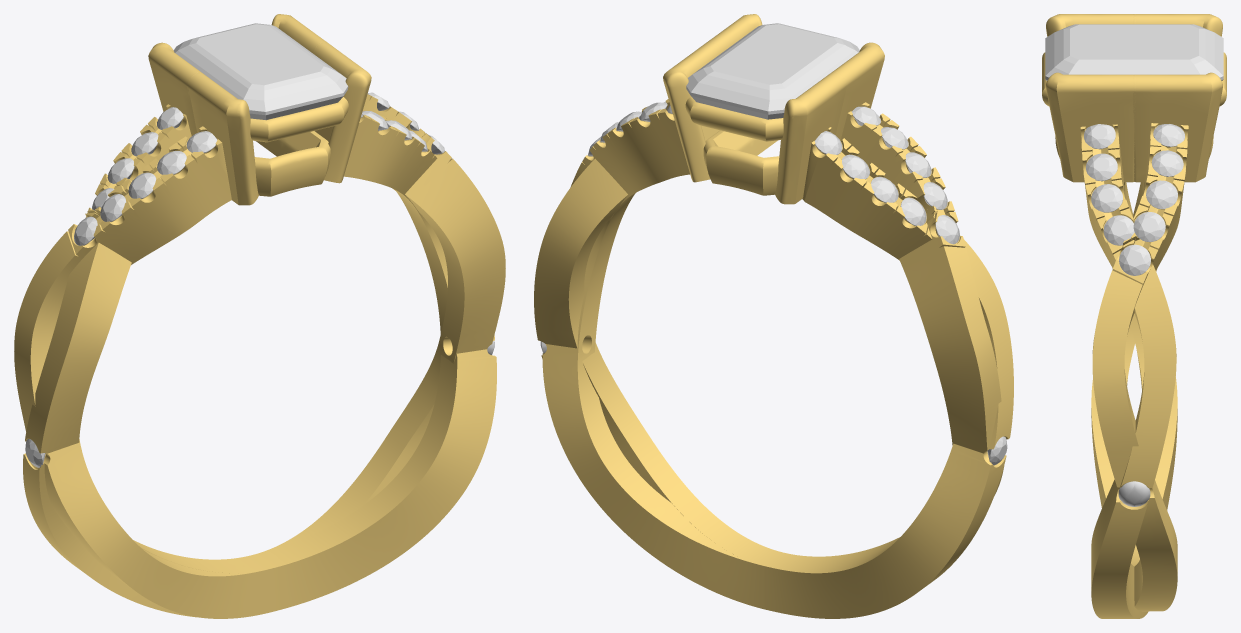
The model's file is diamond-emerald-yellowgold-halfmoonbezel-twist-sidestones.glb.
3 renders of one model, left to right at view 1: azimuth 30°, elevation 25°; view 2: azimuth 150°, elevation 25°; view 3: azimuth 270°, elevation 25°, orthographic.
Visible parts, largest first — view 1: metal.003, stone; view 2: metal.003, stone; view 3: metal.003, stone, side.015, side.016, side.017, side.012, side.011, side.013, side.018, side.010, side.014, side.019.
Boxes of the visible parts, x1=… form: metal.003: x1=14, y1=14, x2=505, y2=618; stone: x1=173, y1=23, x2=348, y2=120; metal.003: x1=534, y1=14, x2=1013, y2=618; stone: x1=686, y1=23, x2=859, y2=119; metal.003: x1=1042, y1=14, x2=1226, y2=618; stone: x1=1045, y1=24, x2=1223, y2=80; side.015: x1=1119, y1=244, x2=1150, y2=275; side.016: x1=1133, y1=212, x2=1165, y2=242; side.017: x1=1146, y1=180, x2=1177, y2=209; side.012: x1=1091, y1=184, x2=1122, y2=212; side.011: x1=1103, y1=215, x2=1134, y2=245; side.013: x1=1086, y1=153, x2=1117, y2=181; side.018: x1=1151, y1=150, x2=1183, y2=176; side.010: x1=1118, y1=481, x2=1150, y2=506; side.014: x1=1084, y1=124, x2=1115, y2=149; side.019: x1=1153, y1=124, x2=1184, y2=146.
Size of the model in its own units: 19.97 by 22.74 by 6.94.
